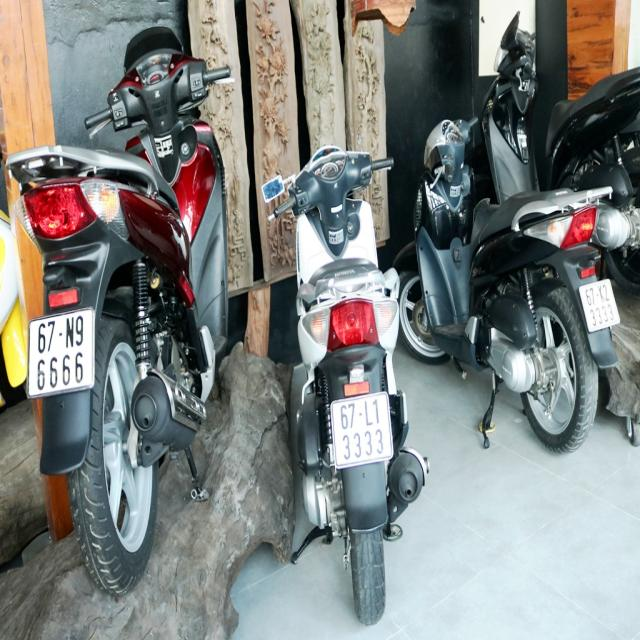license_plate: (29, 308, 96, 398), (336, 393, 395, 471), (578, 278, 622, 334)
